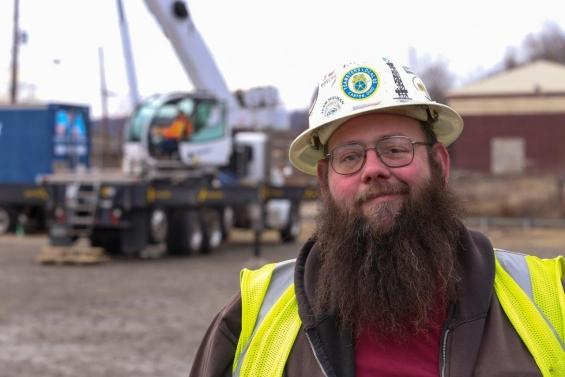helmet: (289, 56, 466, 179)
